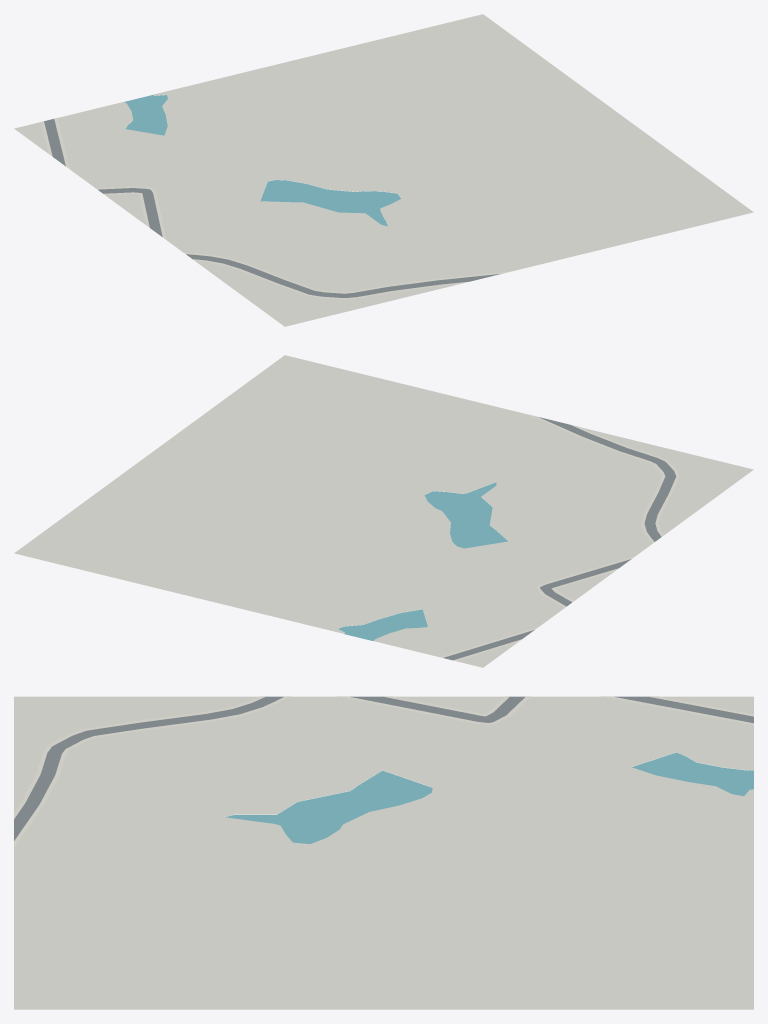
The picture shows the model from 3 angles, top to bottom: view 1: azimuth 30°, elevation 25°; view 2: azimuth 150°, elevation 25°; view 3: azimuth 270°, elevation 25°; orthographic projection. The views are drawn at different scales.
Parts seen in each view (by area): view 1: city; view 2: city; view 3: city.
Boxes of the visible parts, left/top/right/bottom form: city: left=14, top=14, right=753, bottom=326; city: left=14, top=355, right=753, bottom=667; city: left=14, top=696, right=753, bottom=1009.
Bounding box in the file's own units: 500 × 0.4 × 500.
